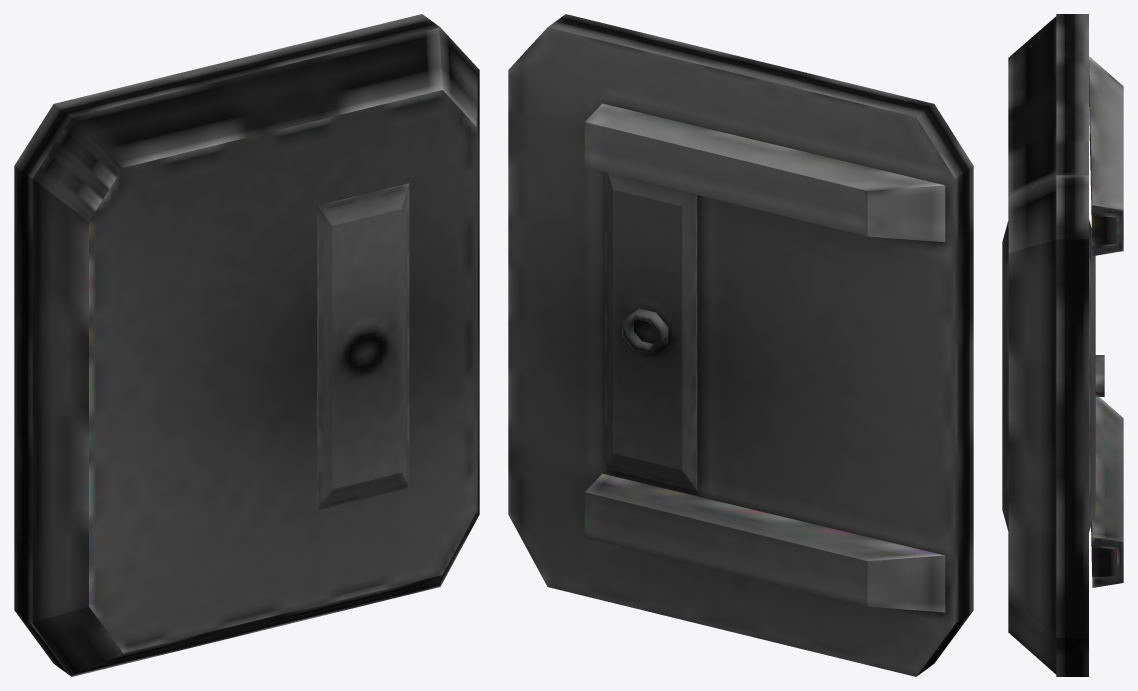
The model's file is vaultdoor.obj.
3 renders of one model, left to right at view 1: azimuth 30°, elevation 25°; view 2: azimuth 150°, elevation 25°; view 3: azimuth 270°, elevation 25°, orthographic. The views are drawn at different scales.
Parts seen in each view (by area): view 1: polySurface59; view 2: polySurface59; view 3: polySurface59.
Part boxes in pixels (x1=…): polySurface59: x1=14, y1=14, x2=479, y2=676; polySurface59: x1=508, y1=14, x2=973, y2=676; polySurface59: x1=1002, y1=14, x2=1123, y2=676.
Size of the model in its own units: 13.33 by 15.95 by 3.5.
Materials: 1 (1 with a texture image).
